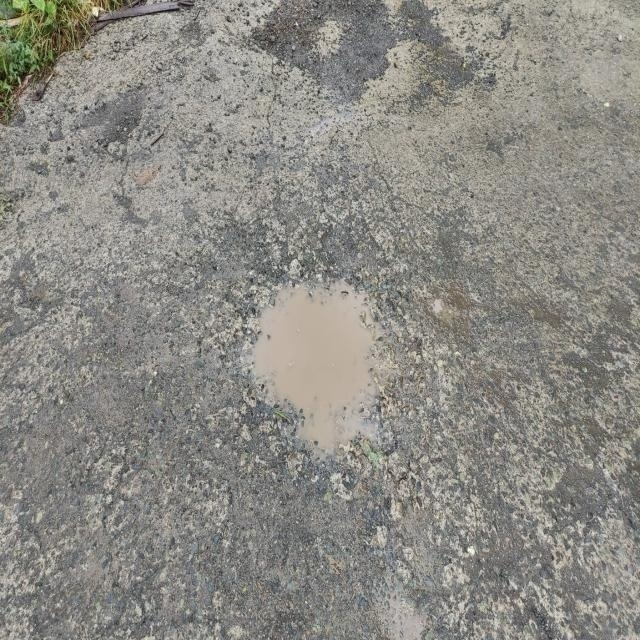pothole: (212, 225, 418, 500)
